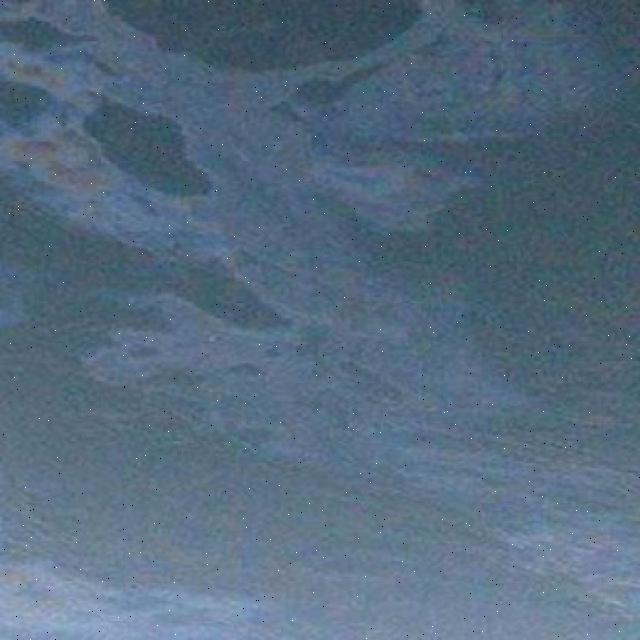oil: (0, 2, 640, 628)
